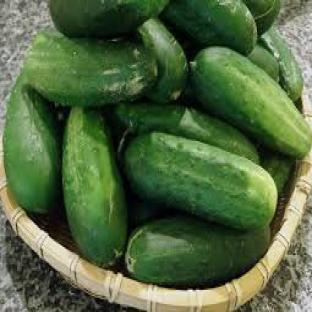Cucumber: (124, 134, 277, 229), (191, 48, 311, 158), (63, 108, 127, 266), (127, 217, 270, 286), (25, 32, 157, 106), (111, 103, 259, 163), (4, 75, 61, 213), (139, 20, 188, 102), (261, 27, 303, 101), (128, 192, 174, 229), (261, 151, 294, 196), (249, 45, 278, 82)
